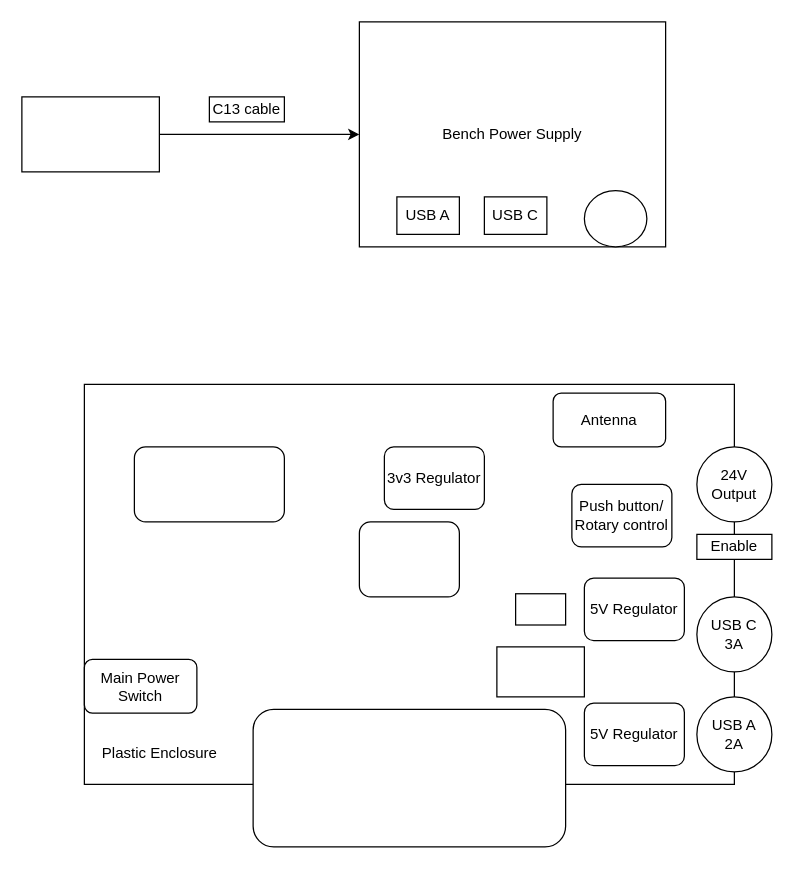
This 794x869 diagram has some shape labels left out. Here are the shapes that lost their labels. From the top down, the centre of each, then its label:
the point at 90,134: 230V Mains
the point at 615,218: 24V / 2A
the point at 208,484: Flyback AC/DC Converter 10A output
the point at 408,559: STM32
the point at 540,608: Fan x1
the point at 540,671: Heatsink x2
the point at 409,777: LCD Display
